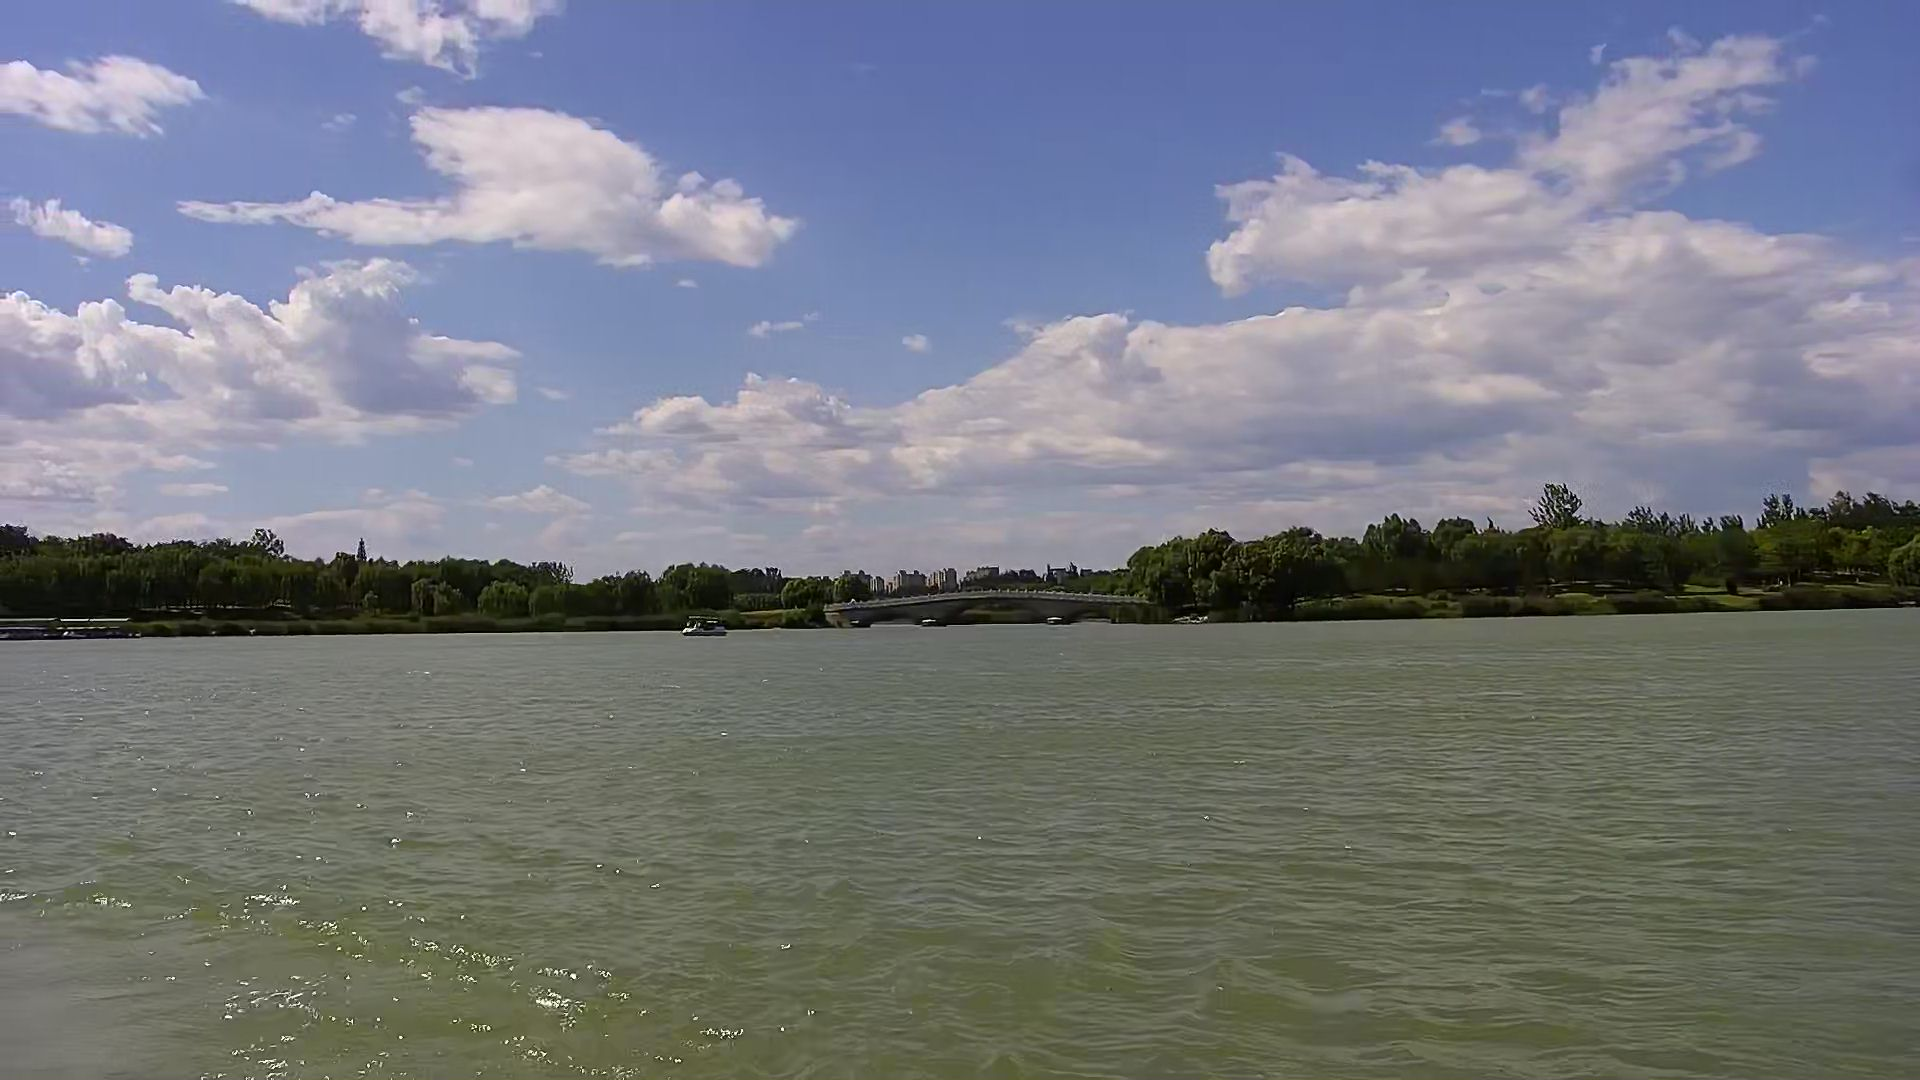boat: (684, 615, 731, 637)
bridge: (833, 589, 1153, 626)
